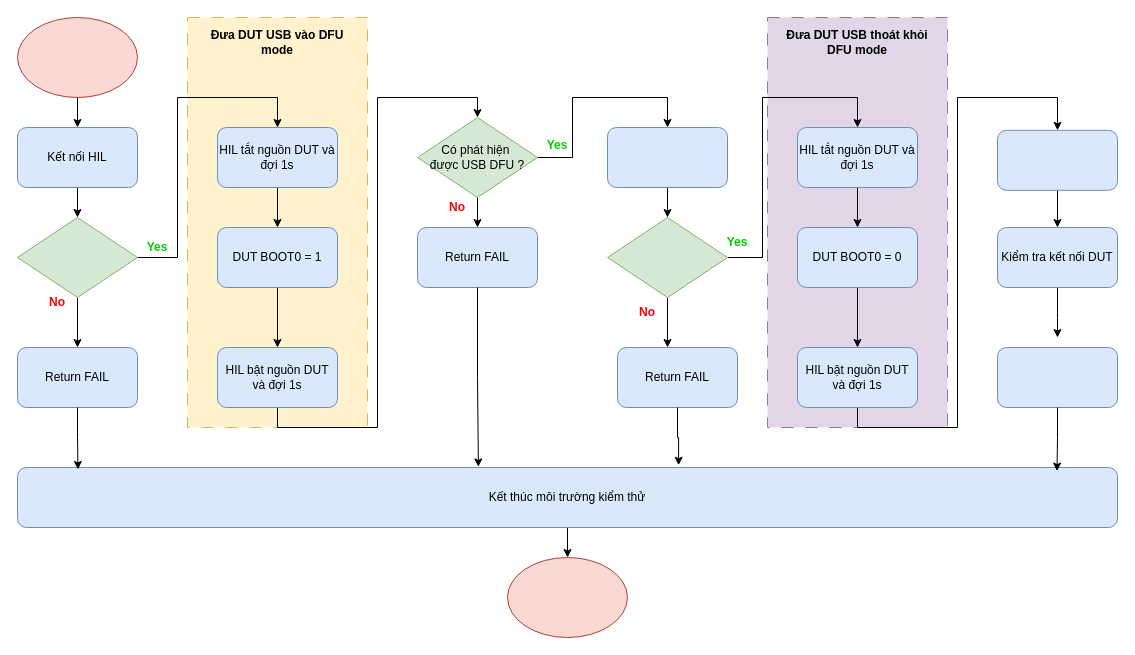
Some shapes in this 1135 by 655 pixel diagram are drawn without their labels. The shapes that lost their labels are listed below. From the top down, each one's centre as x and y in pixels, then its label:
At (77,57): "Bắt đầu".
At (667,157): "Flash FW qua USB DFU".
At (1057,159): "Kết nối DUT".
At (77,257): "file fw cần nạp có tồn tại ?".
At (667,257): "Flash thành công ?".
At (1057,377): "Return PASS".
At (567,597): "Kết thúc".
